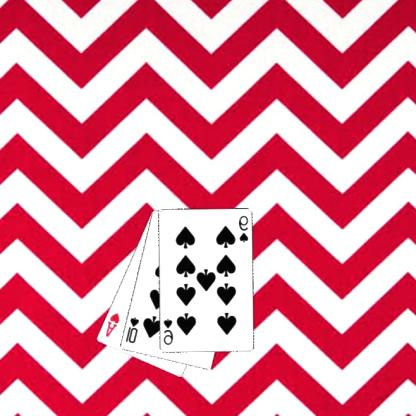10S: (124, 314, 141, 345)
9S: (162, 316, 176, 347), (238, 213, 251, 243)
AH: (104, 310, 123, 338)
